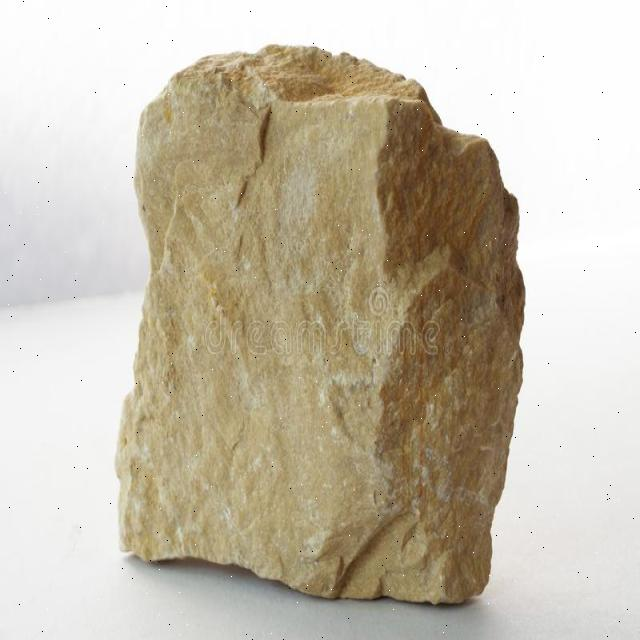Sedimentary: (110, 32, 522, 620)
